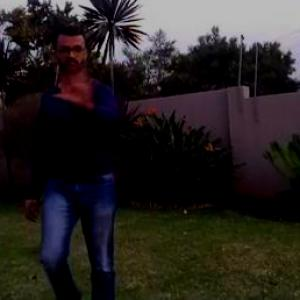follow_hand: (52, 62, 100, 112)
